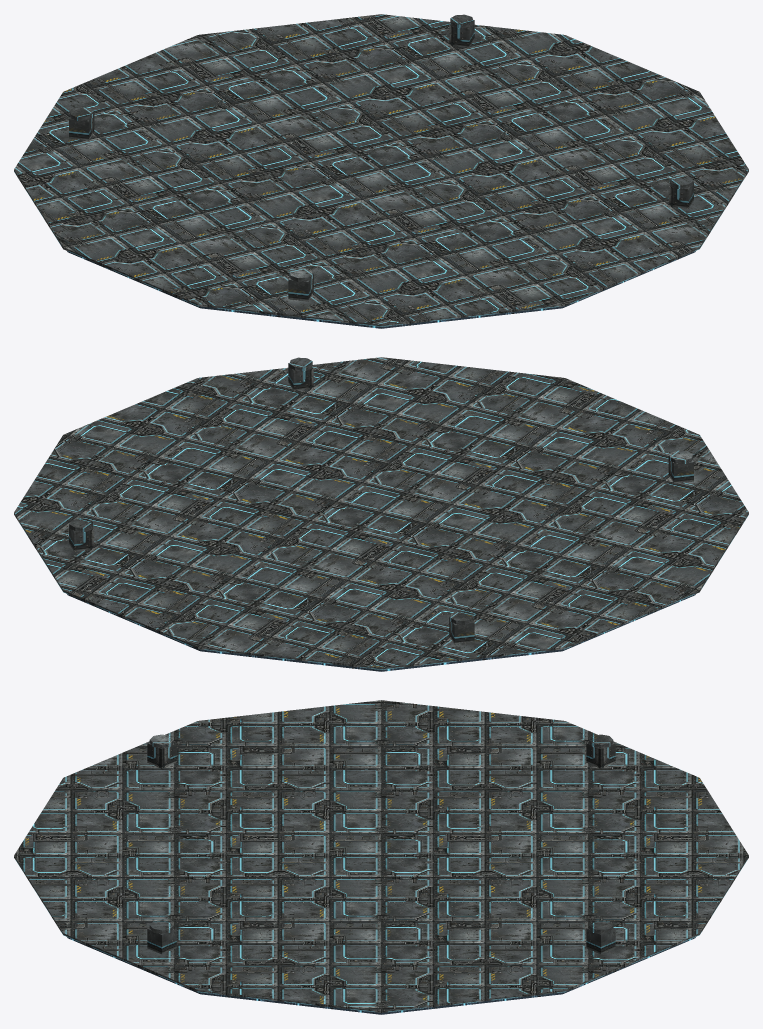
File: frt-001.glb
The picture shows the model from 3 angles, top to bottom: view 1: azimuth 30°, elevation 25°; view 2: azimuth 150°, elevation 25°; view 3: azimuth 270°, elevation 25°; orthographic projection.
Parts seen in each view (by area): view 1: FRT001_Body; view 2: FRT001_Body; view 3: FRT001_Body.
Part boxes in pixels (left/top/right/bottom): FRT001_Body: left=14, top=14, right=748, bottom=328; FRT001_Body: left=14, top=357, right=748, bottom=671; FRT001_Body: left=14, top=700, right=748, bottom=1014.
Bounding box in the file's own units: 85.2 × 5.35 × 85.2.
2 materials, 2 textured.
